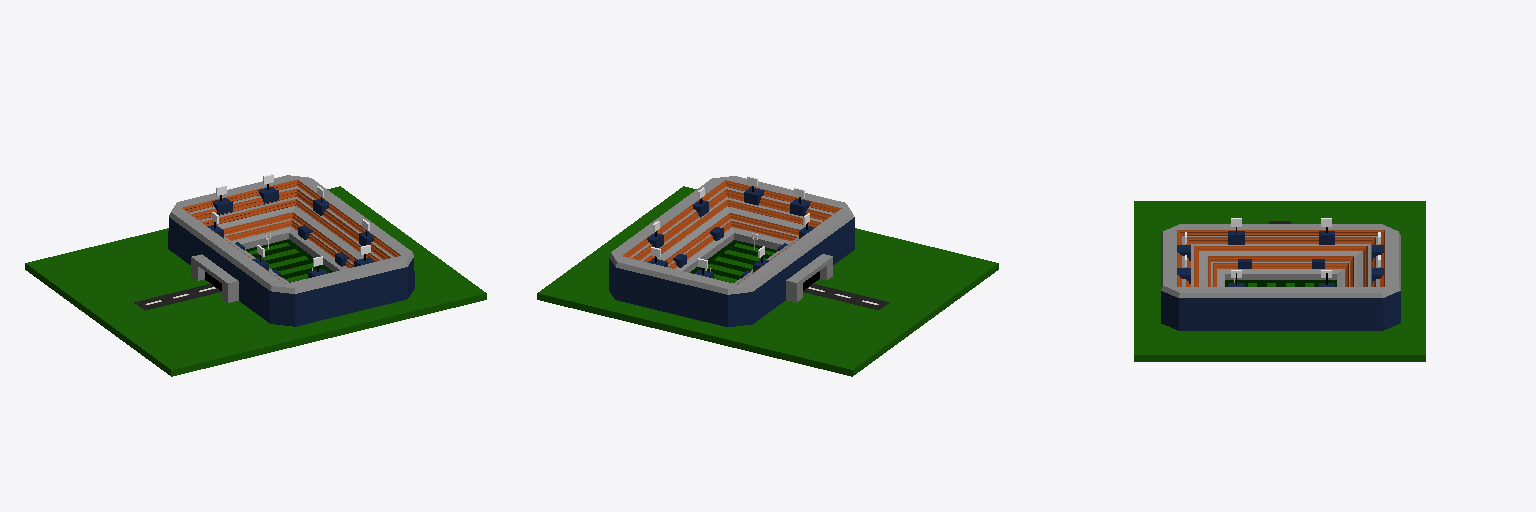
The model's file is BallPark_1244.obj.
3 views of the same model, side by side, from view 1: azimuth 30°, elevation 25°; view 2: azimuth 150°, elevation 25°; view 3: azimuth 270°, elevation 25° (orthographic).
Parts seen in each view (by area): view 1: Box007; view 2: Box007; view 3: Box007.
Part boxes in pixels (x1,y1,x2,y2): Box007: (25,174,486,376); Box007: (537,176,998,376); Box007: (1134,201,1425,361).
Size of the model in its own units: 214 by 37.54 by 172.